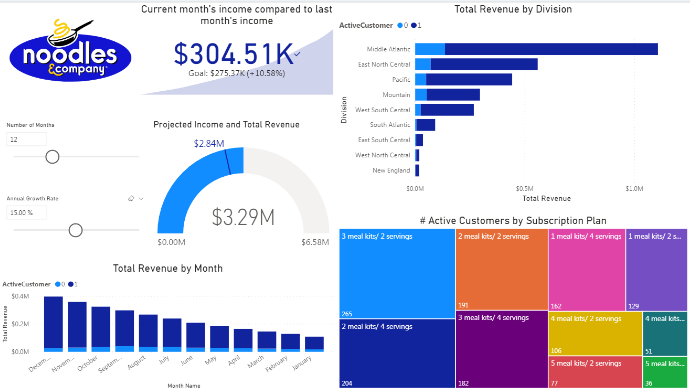

What the dashboard file says about the page in this screenshot:
{"tool":"powerbi","page":{"name":"Dashboard","canvas":[1280,720],"ordinal":0},"visuals":[{"type":"barChart","title":"Total Revenue by Division","fields":{"Category":["States.Division"],"Y":["MeasuresTable.Total Revenue"],"Series":["Customers.ActiveCustomer"]},"box":[624,0,656,376],"z":0},{"type":"treemap","title":"# Active Customers by Subscription Plan","fields":{"Group":["Subscription Plans.SubscriptionPlan"],"Values":["Sum(Customers.ActiveCustomer)"]},"box":[624,392,656,328],"z":1000},{"type":"columnChart","title":"Total Revenue by Month","fields":{"Category":["Calendar.Month Name"],"Y":["MeasuresTable.Total Revenue"],"Series":["Customers.ActiveCustomer"]},"box":[0,480,624,240],"z":1001},{"type":"kpi","title":"Current month''s income compared to last month''s income","fields":{"Indicator":["MeasuresTable.Total Revenue"],"TrendLine":["Calendar.Start of Month"],"Goal":["MeasuresTable.Revenue Previous Month"]},"box":[256,0,368,176],"z":1003},{"type":"image","box":[8,0,248,176],"z":1004},{"type":"slicer","fields":{"Values":["Annual Growth Rate.Annual Growth Rate"]},"box":[0,352,280,112],"z":1006},{"type":"slicer","fields":{"Values":["Number of Months.Number of Months"]},"box":[0,216,280,128],"z":1007},{"type":"gauge","fields":{"Y":["MeasuresTable.Projected Income"],"TargetValue":["MeasuresTable.Total Revenue"]},"box":[280,216,344,248],"z":1008}]}

Visuals, with their boxes in screenshot pixels (x1, y1, x2, y2), scaled from the page's 1280x720 canvas onto the 690x388 screenshot:
"Total Revenue by Division" barChart: bbox(336, 0, 689, 203)
"# Active Customers by Subscription Plan" treemap: bbox(336, 211, 689, 387)
"Total Revenue by Month" columnChart: bbox(0, 259, 336, 387)
"Current month''s income compared to last month''s income" kpi: bbox(138, 0, 336, 95)
image: bbox(4, 0, 138, 95)
slicer - Annual Growth Rate.Annual Growth Rate: bbox(0, 190, 151, 250)
slicer - Number of Months.Number of Months: bbox(0, 116, 151, 185)
gauge - MeasuresTable.Projected Income x MeasuresTable.Total Revenue: bbox(151, 116, 336, 250)
